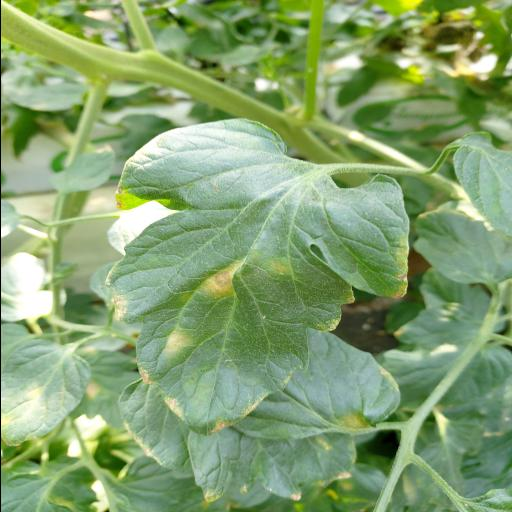disease_tomato: (102, 116, 410, 430)
